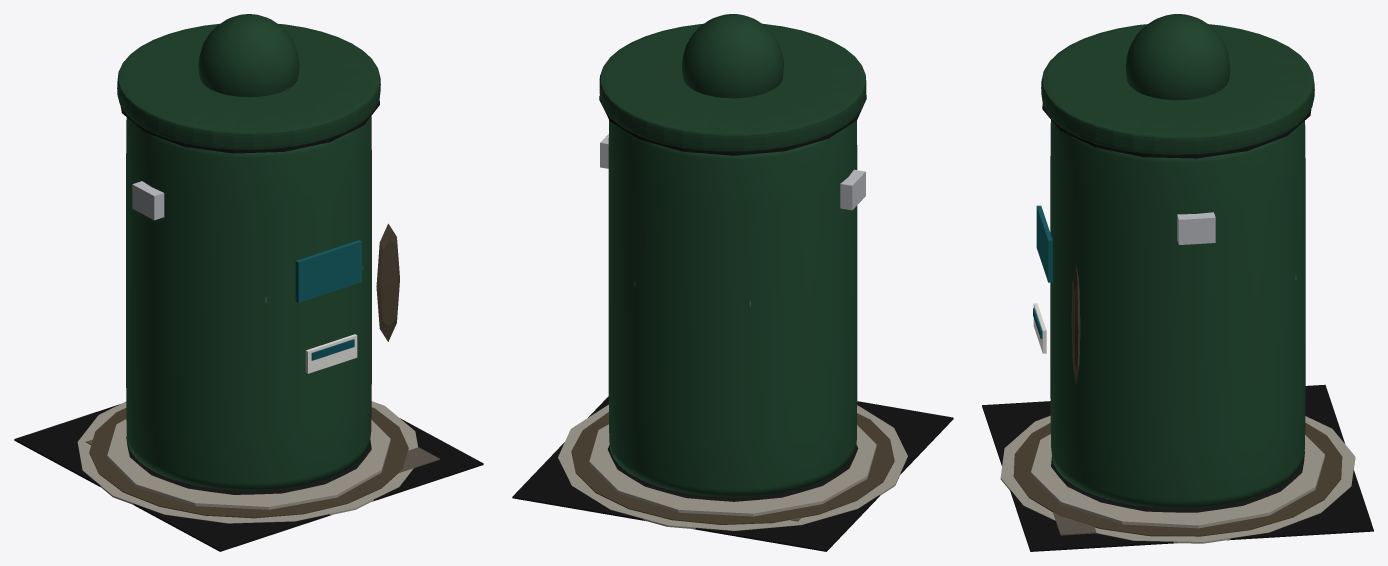
The model's file is hm_prop_trash_bin_v2.obj.
3 renders of one model, left to right at view 1: azimuth 30°, elevation 25°; view 2: azimuth 150°, elevation 25°; view 3: azimuth 270°, elevation 25°, orthographic. The views are drawn at different scales.
Visible parts, largest first — view 1: Bin_Body, Bin_Lid, hm_prop_trash_bin_v2_Shadow, Bin_Dome, Bin_Salt, hm_prop_trash_bin_v2_Dirt, hm_prop_trash_bin_v2_SaltRing, Bin_Plate, Bin_Streak, Bin_Foot, hm_prop_trash_bin_v2_AssetPlate, Bin_Handle_-1 (+1 smaller); view 2: Bin_Body, Bin_Lid, hm_prop_trash_bin_v2_Shadow, Bin_Dome, Bin_Salt, hm_prop_trash_bin_v2_Dirt, hm_prop_trash_bin_v2_SaltRing, Bin_Foot, Bin_LidSeam, Bin_Handle_-1; view 3: Bin_Body, Bin_Lid, hm_prop_trash_bin_v2_Shadow, Bin_Dome, Bin_Salt, hm_prop_trash_bin_v2_Dirt, hm_prop_trash_bin_v2_SaltRing, Bin_Foot, Bin_Handle_1, Bin_LidSeam, Bin_Plate, Bin_Streak (+1 smaller).
Part boxes in pixels (<box>): Bin_Body: <box>126,116,371,490</box>; Bin_Lid: <box>117,23,380,150</box>; hm_prop_trash_bin_v2_Shadow: <box>14,404,483,551</box>; Bin_Dome: <box>198,14,299,97</box>; Bin_Salt: <box>107,419,390,509</box>; hm_prop_trash_bin_v2_Dirt: <box>89,407,408,518</box>; hm_prop_trash_bin_v2_SaltRing: <box>77,401,417,523</box>; Bin_Plate: <box>295,240,361,302</box>; Bin_Streak: <box>376,223,399,341</box>; Bin_Foot: <box>126,436,371,494</box>; hm_prop_trash_bin_v2_AssetPlate: <box>305,334,357,373</box>; Bin_Handle_-1: <box>132,181,164,220</box>; Bin_Body: <box>608,120,857,497</box>; Bin_Lid: <box>599,23,866,152</box>; hm_prop_trash_bin_v2_Shadow: <box>512,396,953,551</box>; Bin_Dome: <box>682,14,783,98</box>; Bin_Salt: <box>589,424,876,516</box>; hm_prop_trash_bin_v2_Dirt: <box>571,412,894,524</box>; hm_prop_trash_bin_v2_SaltRing: <box>558,404,907,530</box>; Bin_Foot: <box>607,444,858,501</box>; Bin_LidSeam: <box>599,95,866,155</box>; Bin_Handle_-1: <box>840,169,865,210</box>; Bin_Body: <box>1050,120,1305,508</box>; Bin_Lid: <box>1041,24,1314,155</box>; hm_prop_trash_bin_v2_Shadow: <box>982,384,1373,551</box>; Bin_Dome: <box>1125,14,1230,100</box>; Bin_Salt: <box>1031,434,1324,528</box>; hm_prop_trash_bin_v2_Dirt: <box>1013,422,1342,536</box>; hm_prop_trash_bin_v2_SaltRing: <box>1000,415,1355,543</box>; Bin_Foot: <box>1051,451,1304,512</box>; Bin_Handle_1: <box>1177,212,1215,244</box>; Bin_LidSeam: <box>1042,104,1311,158</box>; Bin_Plate: <box>1036,205,1052,282</box>; Bin_Streak: <box>1071,263,1080,384</box>.
Bounding box in the file's own units: 0.8443 × 1.07 × 0.8443.
